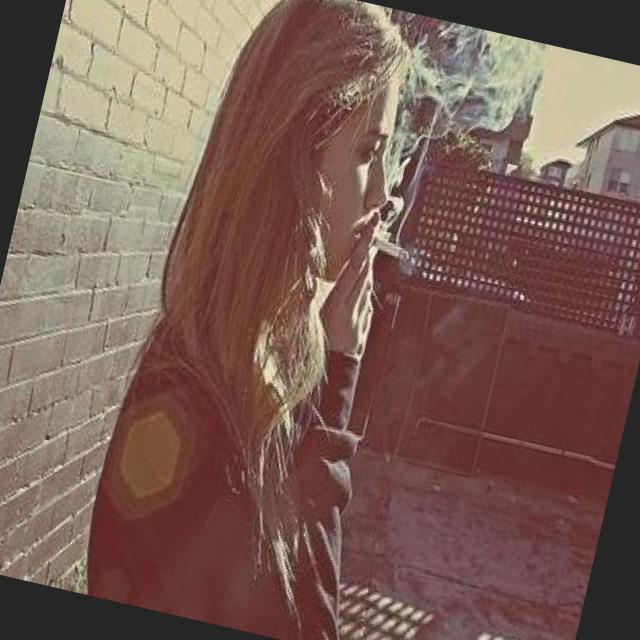cigarette: (363, 228, 411, 264)
